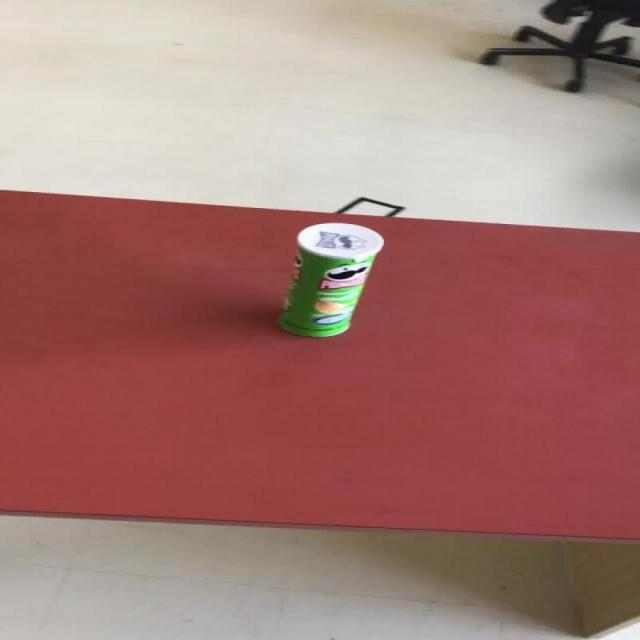Pringles: (276, 221, 384, 337)
